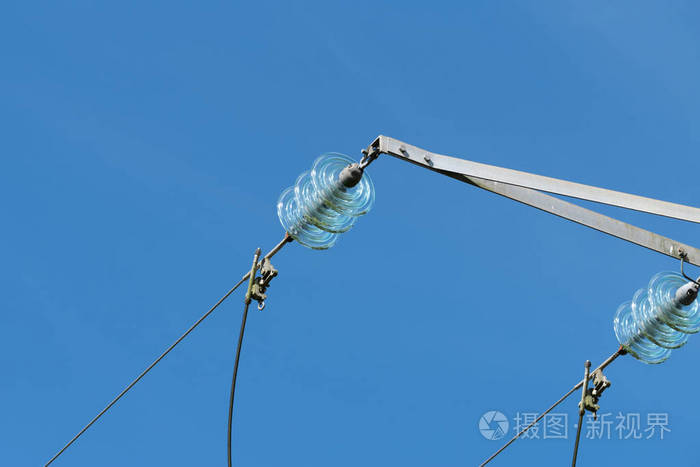insulator: (277, 153, 375, 250), (614, 272, 699, 365)
